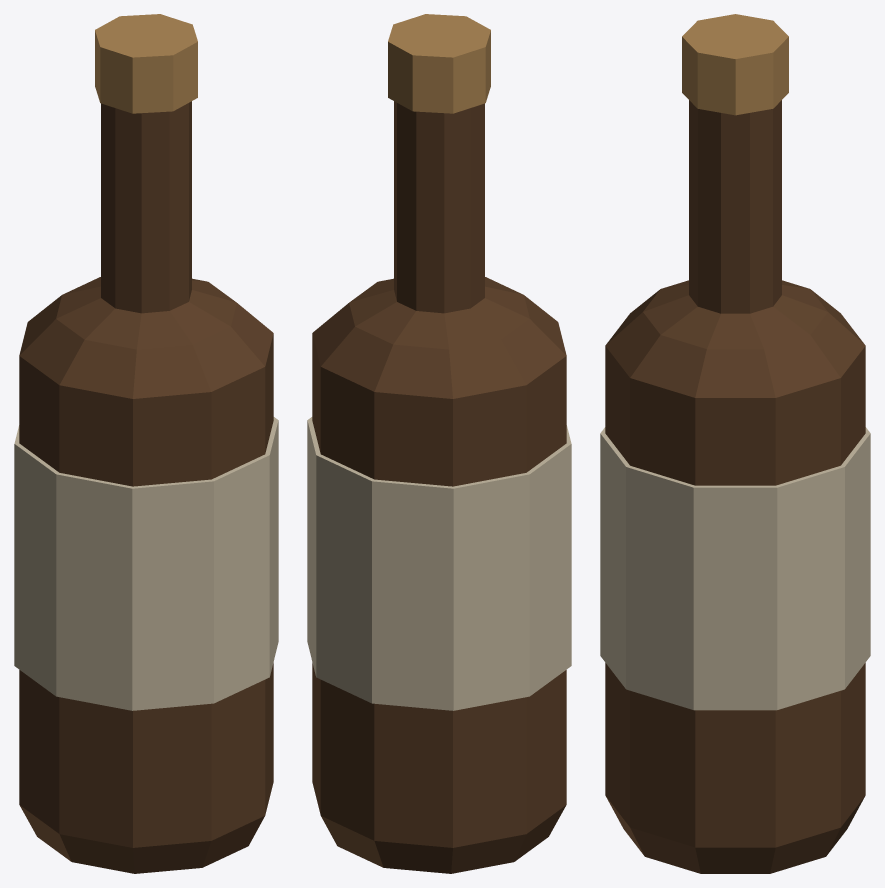
File: bottle-ca0f79.glb
3 renders of one model, left to right at view 1: azimuth 30°, elevation 25°; view 2: azimuth 150°, elevation 25°; view 3: azimuth 270°, elevation 25°, orthographic.
Parts seen in each view (by area): view 1: bottle; view 2: bottle; view 3: bottle.
Boxes of the visible parts, left/top/right/bottom form: bottle: left=14, top=14, right=278, bottom=873; bottle: left=307, top=14, right=571, bottom=873; bottle: left=600, top=14, right=870, bottom=873.
Bounding box in the file's own units: 0.0829 × 0.282 × 0.0872.
